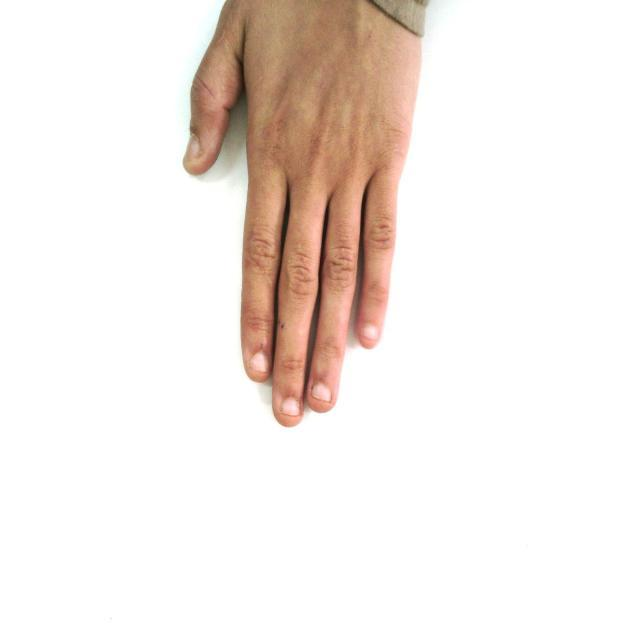Fingernail: (186, 136, 200, 161), (281, 398, 300, 415), (250, 353, 267, 372), (313, 384, 330, 402), (362, 325, 377, 341)
